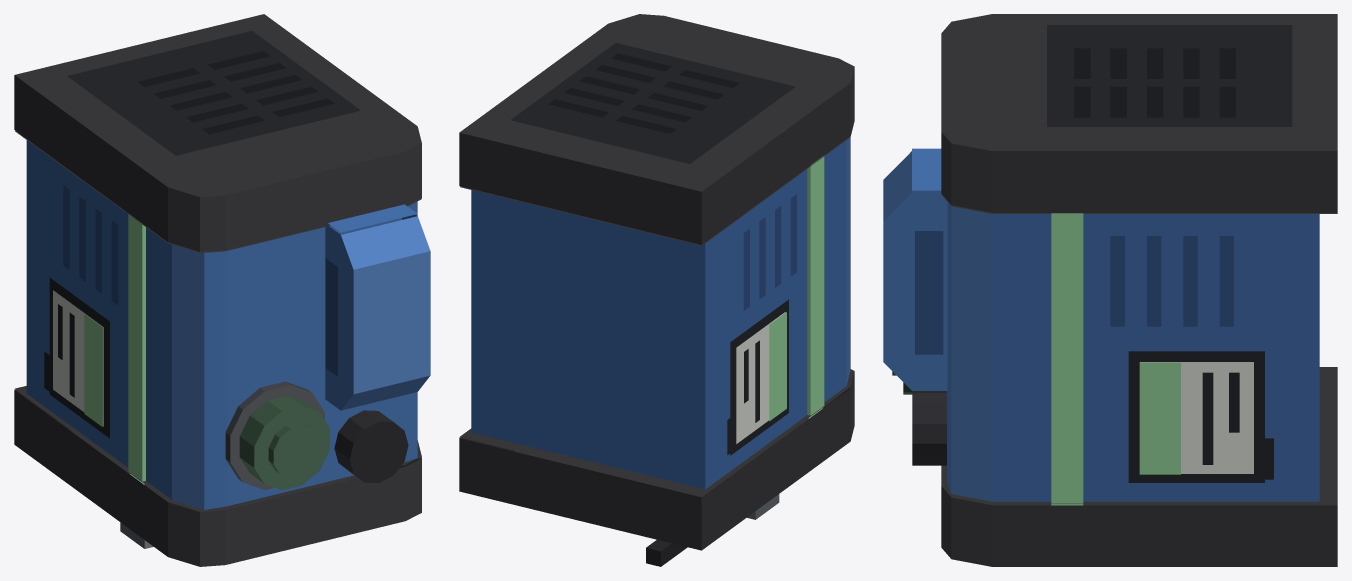
The model's file is backup_ground_valutech_off_W.obj.
3 renders of one model, left to right at view 1: azimuth 30°, elevation 25°; view 2: azimuth 150°, elevation 25°; view 3: azimuth 270°, elevation 25°, orthographic. The views are drawn at different scales.
Visible parts, largest first — view 1: backup_ground_valutech_off_W; view 2: backup_ground_valutech_off_W; view 3: backup_ground_valutech_off_W.
Part boxes in pixels (x1,y1,x2,y2): backup_ground_valutech_off_W: (14, 14, 430, 566); backup_ground_valutech_off_W: (459, 14, 854, 566); backup_ground_valutech_off_W: (883, 14, 1337, 566).
Size of the model in its own units: 0.357 by 0.561 by 0.5.
1 material, 1 textured.
